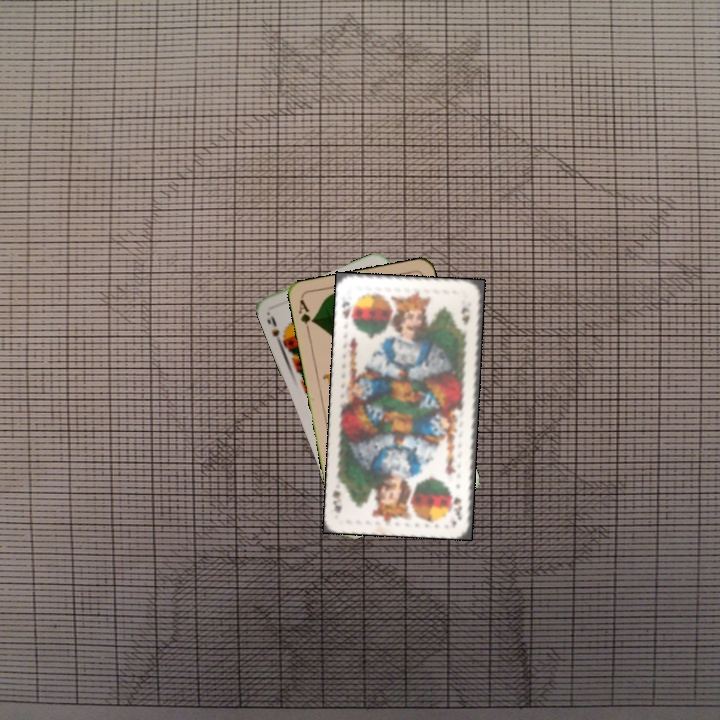GA: (295, 296, 317, 336)
S9: (263, 310, 290, 349)
SK: (338, 297, 358, 328), (449, 493, 465, 523)
